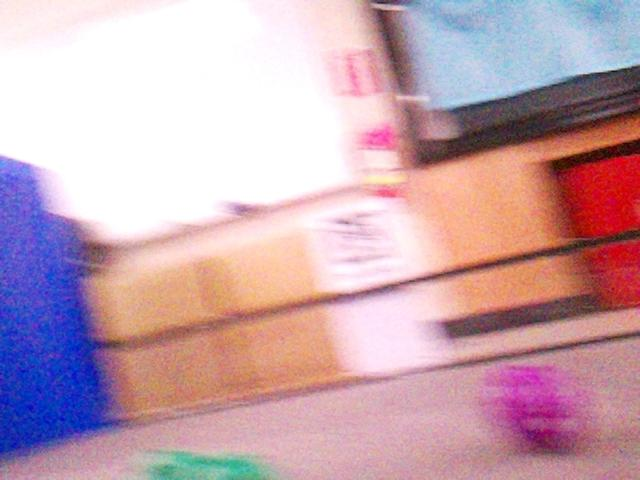Green: (151, 450, 267, 480)
Purple: (491, 367, 579, 451)
